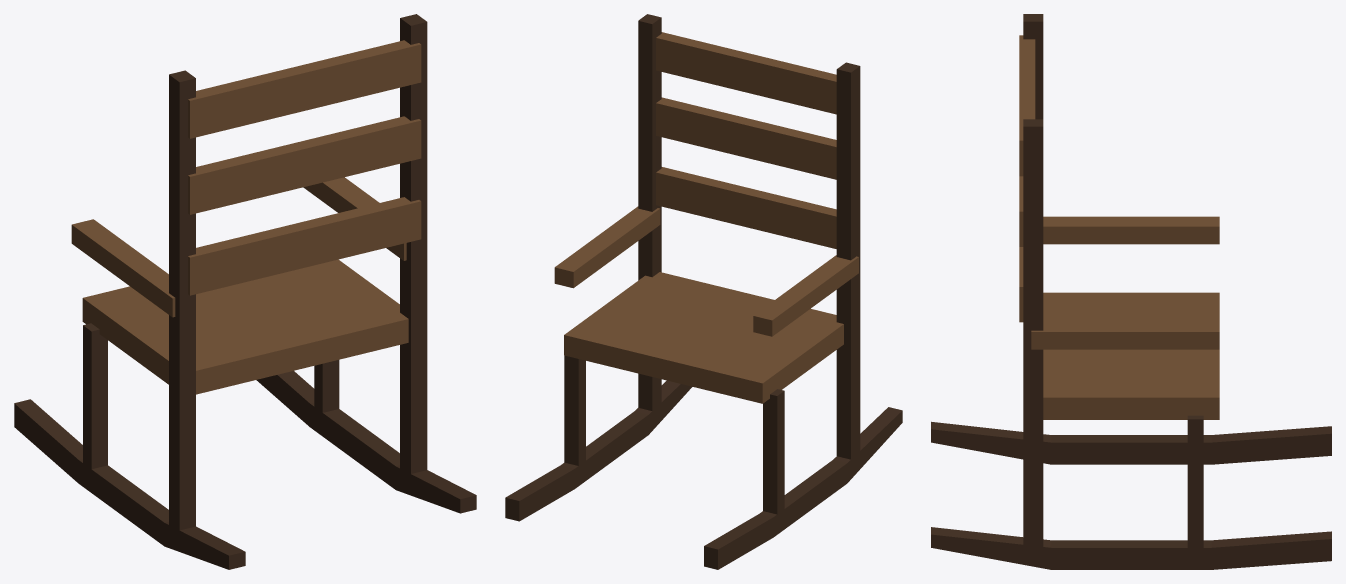
File: SM_Wood_Chair_Rockign.glb
3 renders of one model, left to right at view 1: azimuth 30°, elevation 25°; view 2: azimuth 150°, elevation 25°; view 3: azimuth 270°, elevation 25°, orthographic. The views are drawn at different scales.
Parts seen in each view (by area): view 1: SM_Wood_Chair_Rockign; view 2: SM_Wood_Chair_Rockign; view 3: SM_Wood_Chair_Rockign.
Boxes of the visible parts, x1=… form: SM_Wood_Chair_Rockign: x1=14, y1=14, x2=476, y2=569; SM_Wood_Chair_Rockign: x1=505, y1=14, x2=902, y2=569; SM_Wood_Chair_Rockign: x1=931, y1=14, x2=1331, y2=569.
Bounding box in the file's own units: 0.806 × 1.45 × 1.18.
Materials: 1 (1 with a texture image).
